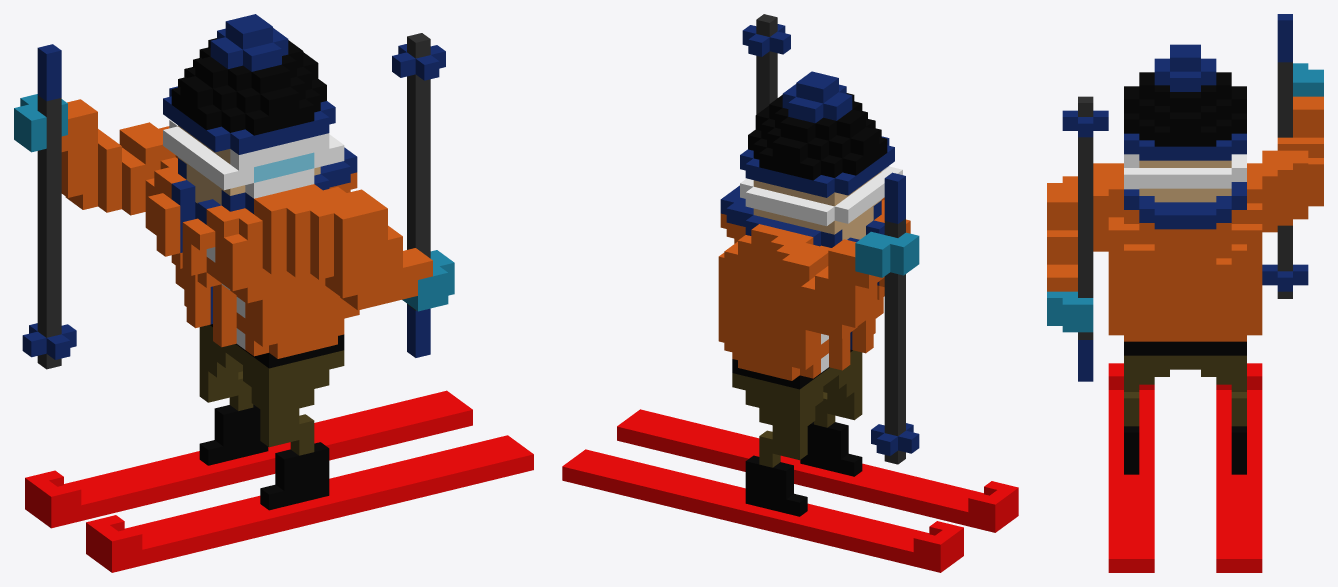
File: Saut_8_Frame_01.obj
The picture shows the model from 3 angles, left to right: view 1: azimuth 30°, elevation 25°; view 2: azimuth 150°, elevation 25°; view 3: azimuth 270°, elevation 25°; orthographic projection. The views are drawn at different scales.
Size of the model in its own units: 28 by 30 by 18.
1 material, 1 textured.
